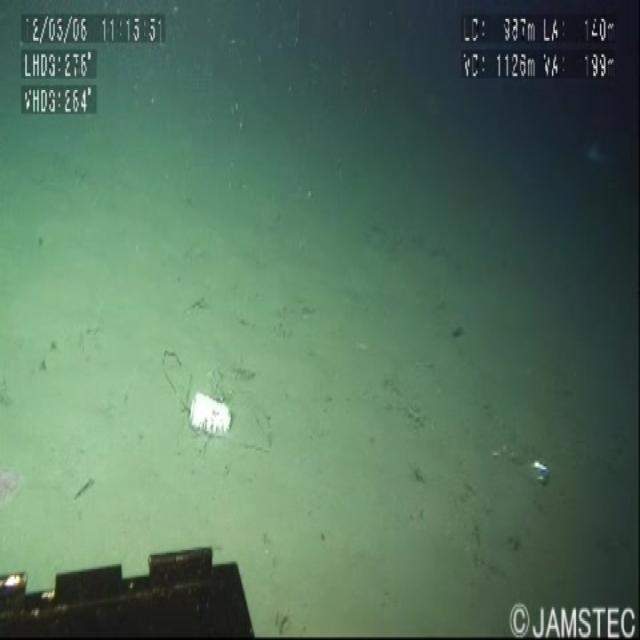Metal: (181, 365, 242, 458)
